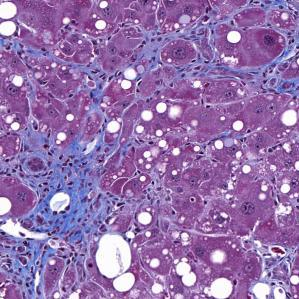fibrosis: (17, 121, 116, 190), (21, 198, 114, 259), (250, 0, 299, 104)
